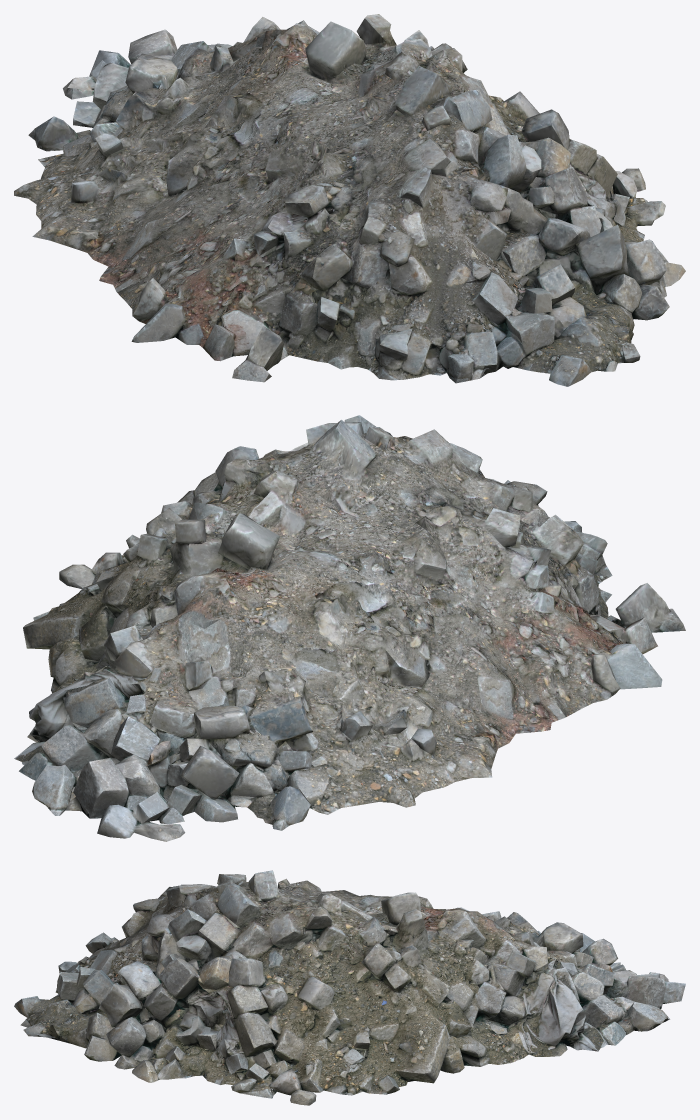
Rendered from sm_Rubble_01_01.fbx.
The picture shows the model from 3 angles, top to bottom: view 1: azimuth 30°, elevation 25°; view 2: azimuth 150°, elevation 25°; view 3: azimuth 270°, elevation 25°; orthographic projection. The views are drawn at different scales.
Parts seen in each view (by area): view 1: sm_Rubble_01_01_LOD0; view 2: sm_Rubble_01_01_LOD0; view 3: sm_Rubble_01_01_LOD0.
Boxes of the visible parts, left/top/right/bottom form: sm_Rubble_01_01_LOD0: left=14, top=14, right=685, bottom=386; sm_Rubble_01_01_LOD0: left=14, top=415, right=685, bottom=841; sm_Rubble_01_01_LOD0: left=14, top=870, right=685, bottom=1105.
Bounding box in the file's own units: 199 × 278 × 65.93.
